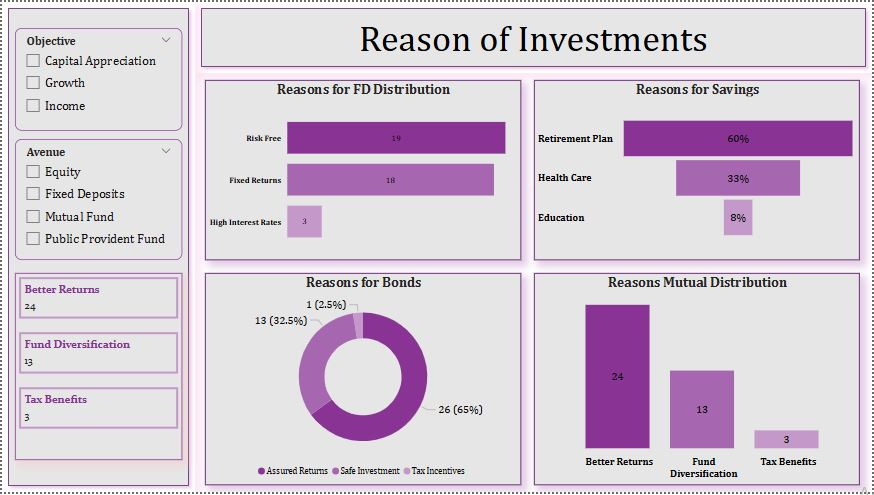

Layout of this report page (visuals, bound fields, positions):
{"tool":"powerbi","page":{"name":"Task 5","canvas":[1280,720],"ordinal":4},"visuals":[{"type":"shape","box":[0,0,283.8,720.6],"z":0},{"type":"shape","box":[283.8,0,995.6,104.4],"z":1000},{"type":"slicer","fields":{"Values":["Data_set 2.Avenue"]},"box":[19.1,201.5,245.6,177.9],"z":2000},{"type":"multiRowCard","title":"Investors","fields":{"Values":["Data_set 2.Reason_Mutual","CountNonNull(Data_set 2.Reason_Mutual)"]},"box":[19.1,398.5,245.6,275],"z":3000},{"type":"barChart","title":"Reasons for FD Distribution","fields":{"Category":["Data_set 2.Reason_FD"],"Y":["CountNonNull(Data_set 2.Reason_FD)"],"Series":["Data_set 2.Reason_FD"]},"box":[298.5,114.7,464.7,264.7],"z":4000},{"type":"slicer","fields":{"Values":["Data_set 2.Objective"]},"box":[19.1,38.2,245.6,151.5],"z":5000},{"type":"donutChart","title":"Reasons for Bonds","fields":{"Category":["Data_set 2.Reason_Bonds"],"Y":["CountNonNull(Data_set 2.Reason_Bonds)"]},"box":[298.5,398.5,464.7,311.8],"z":6000},{"type":"columnChart","title":"Reasons Mutual Distribution","fields":{"Category":["Data_set 2.Reason_Mutual"],"Y":["CountNonNull(Data_set 2.Reason_Mutual)"],"Series":["Data_set 2.Reason_Mutual"]},"box":[782.4,398.5,479.4,311.8],"z":7000},{"type":"funnel","title":"Reasons for Savings","fields":{"Category":["Data_set 2.What are your savings objectives?"],"Y":["CountNonNull(Data_set 2.Stock_Marktet)"]},"box":[782.4,114.7,479.4,264.7],"z":8000}]}

Visuals, with their boxes in screenshot pixels (x1, y1, x2, y2), scaled from the page's 1280x720 canvas onto the 874x495 screenshot:
shape: bbox=[0, 0, 194, 494]
shape: bbox=[194, 0, 873, 72]
slicer - Data_set 2.Avenue: bbox=[13, 139, 181, 261]
"Investors" multiRowCard: bbox=[13, 274, 181, 463]
"Reasons for FD Distribution" barChart: bbox=[204, 79, 521, 261]
slicer - Data_set 2.Objective: bbox=[13, 26, 181, 130]
"Reasons for Bonds" donutChart: bbox=[204, 274, 521, 488]
"Reasons Mutual Distribution" columnChart: bbox=[534, 274, 862, 488]
"Reasons for Savings" funnel: bbox=[534, 79, 862, 261]
